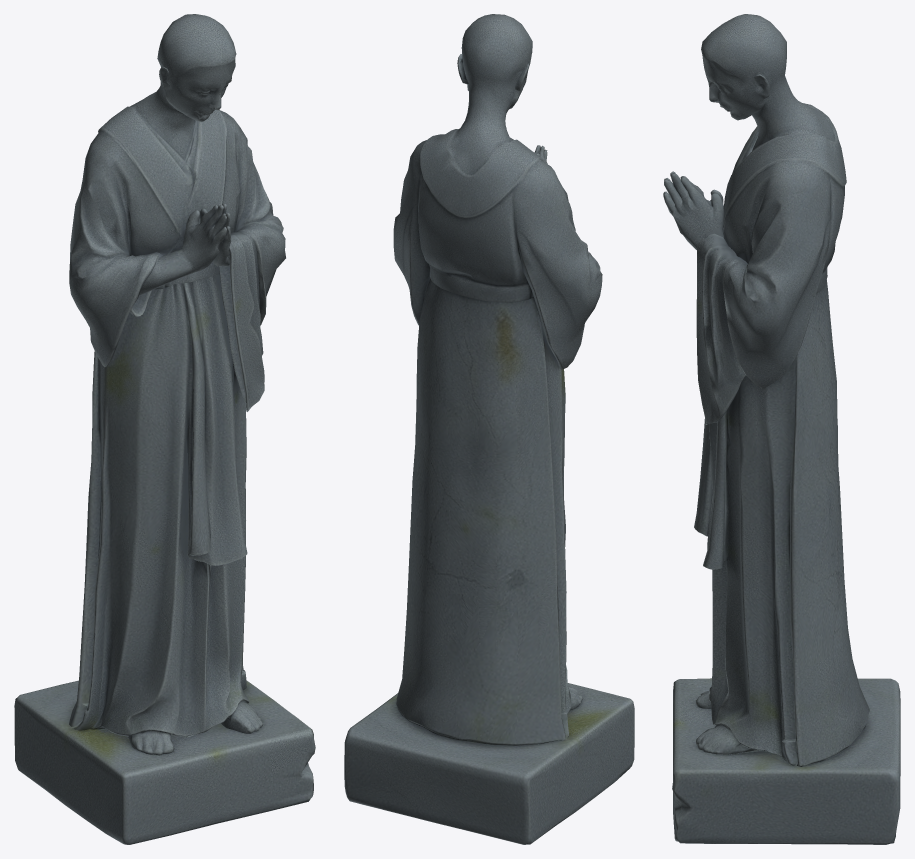
Rendered from StandingShrine.glb.
3 renders of one model, left to right at view 1: azimuth 30°, elevation 25°; view 2: azimuth 150°, elevation 25°; view 3: azimuth 270°, elevation 25°, orthographic. The views are drawn at different scales.
Size of the model in its own units: 0.2617 by 0.9512 by 0.2598.
1 material, 1 textured.
